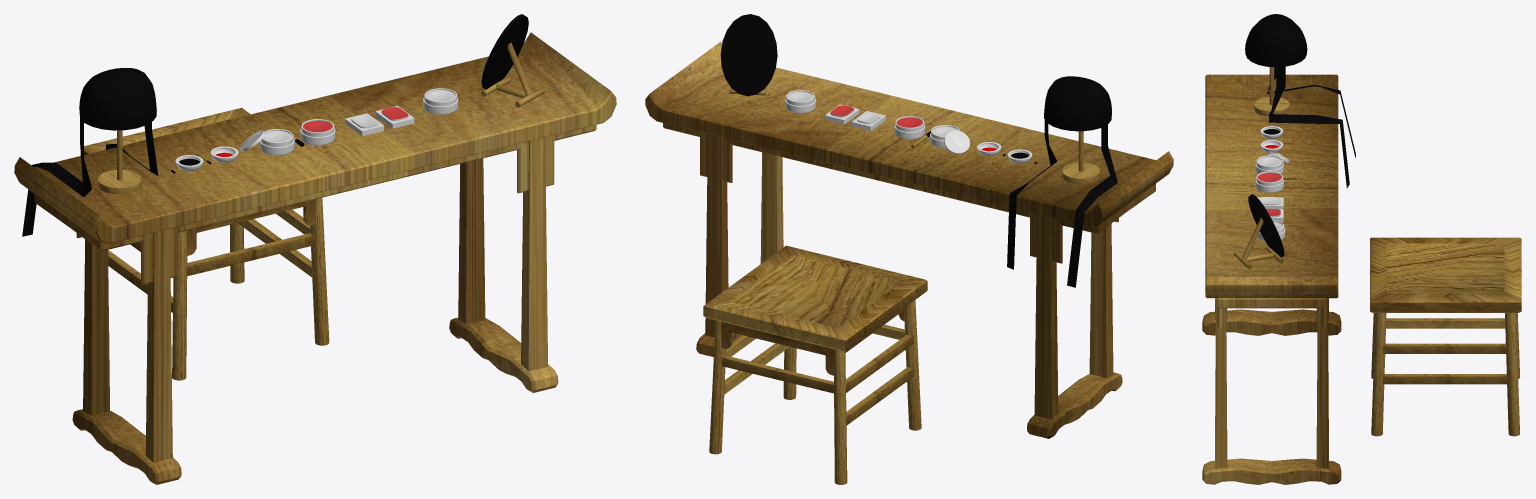
The model's file is makeup.fbx.
3 views of the same model, side by side, from view 1: azimuth 30°, elevation 25°; view 2: azimuth 150°, elevation 25°; view 3: azimuth 270°, elevation 25° (orthographic). The views are drawn at different scales.
Visible parts, largest first — view 1: desk, chair, hat, pCylinder16, pCylinder15, blush, basic_oil, fix_powder; view 2: desk, chair, hat, pCylinder16, pCylinder15, blush, basic_oil; view 3: desk, chair, hat, pCylinder16, blush, pCylinder15, fix_powder.
Boxes of the visible parts, <box> form: desk: <box>14,32,616,484</box>; chair: <box>80,107,329,380</box>; hat: <box>22,68,158,236</box>; pCylinder16: <box>481,14,528,89</box>; pCylinder15: <box>98,170,141,194</box>; blush: <box>300,119,335,145</box>; basic_oil: <box>423,88,458,114</box>; fix_powder: <box>259,129,294,155</box>; desk: <box>645,42,1173,438</box>; chair: <box>703,245,927,484</box>; hat: <box>1007,76,1117,287</box>; pCylinder16: <box>720,14,777,96</box>; pCylinder15: <box>1062,162,1100,183</box>; blush: <box>894,116,925,139</box>; basic_oil: <box>785,90,815,113</box>; desk: <box>1202,74,1341,484</box>; chair: <box>1370,237,1521,436</box>; hat: <box>1245,14,1355,187</box>; pCylinder16: <box>1248,194,1284,257</box>; blush: <box>1255,171,1283,192</box>; pCylinder15: <box>1254,97,1289,116</box>; fix_powder: <box>1255,155,1283,173</box>.
Bounding box in the file's own units: 9.38 × 6.55 × 6.13.
